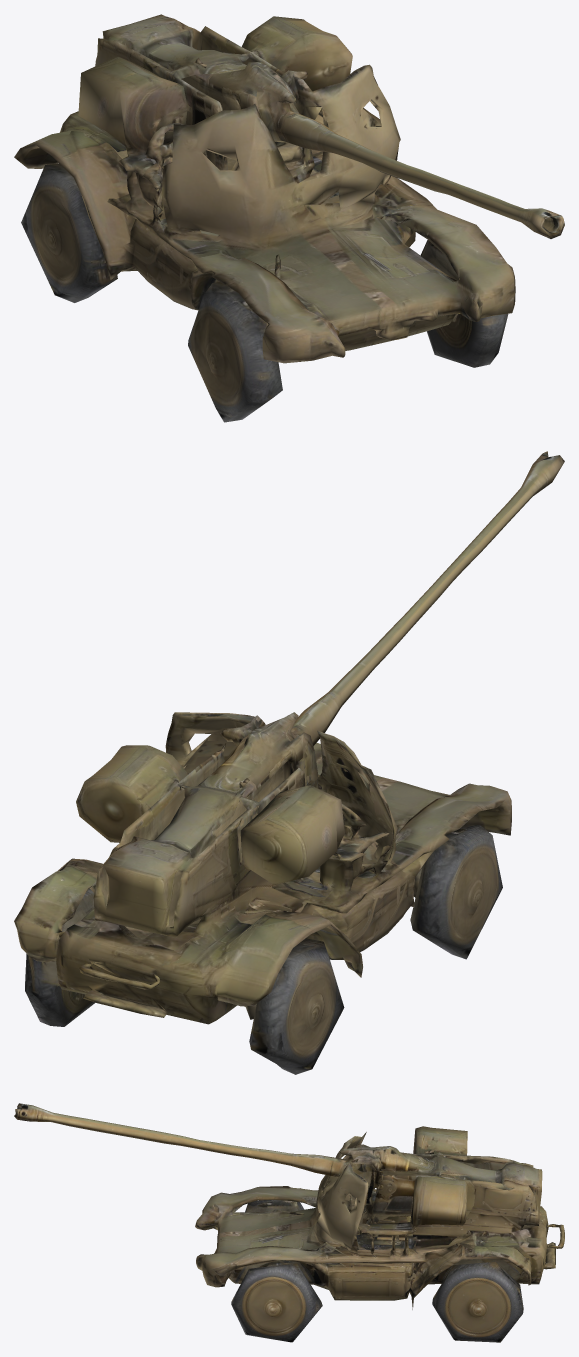
The picture shows the model from 3 angles, top to bottom: view 1: azimuth 30°, elevation 25°; view 2: azimuth 150°, elevation 25°; view 3: azimuth 270°, elevation 25°; orthographic projection. The views are drawn at different scales.
Visible parts, largest first — view 1: Mesh_0; view 2: Mesh_0; view 3: Mesh_0.
Part boxes in pixels (left/top/right/bottom): Mesh_0: left=14, top=14, right=564, bottom=422; Mesh_0: left=14, top=451, right=564, bottom=1074; Mesh_0: left=14, top=1103, right=564, bottom=1342.
Bounding box in the file's own units: 2.38 × 2.77 × 6.77.
Materials: 1 (1 with a texture image).
